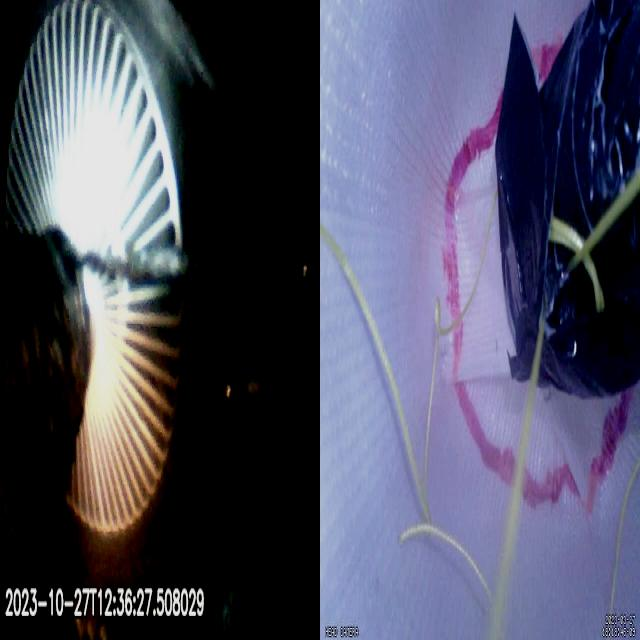red-circle: (444, 38, 635, 518)
